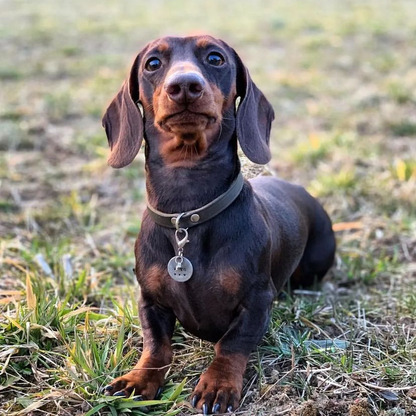dachshund: (88, 27, 362, 399)
